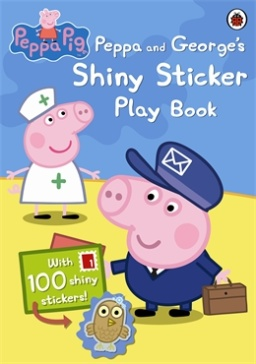Peppa: (6, 86, 102, 226)
